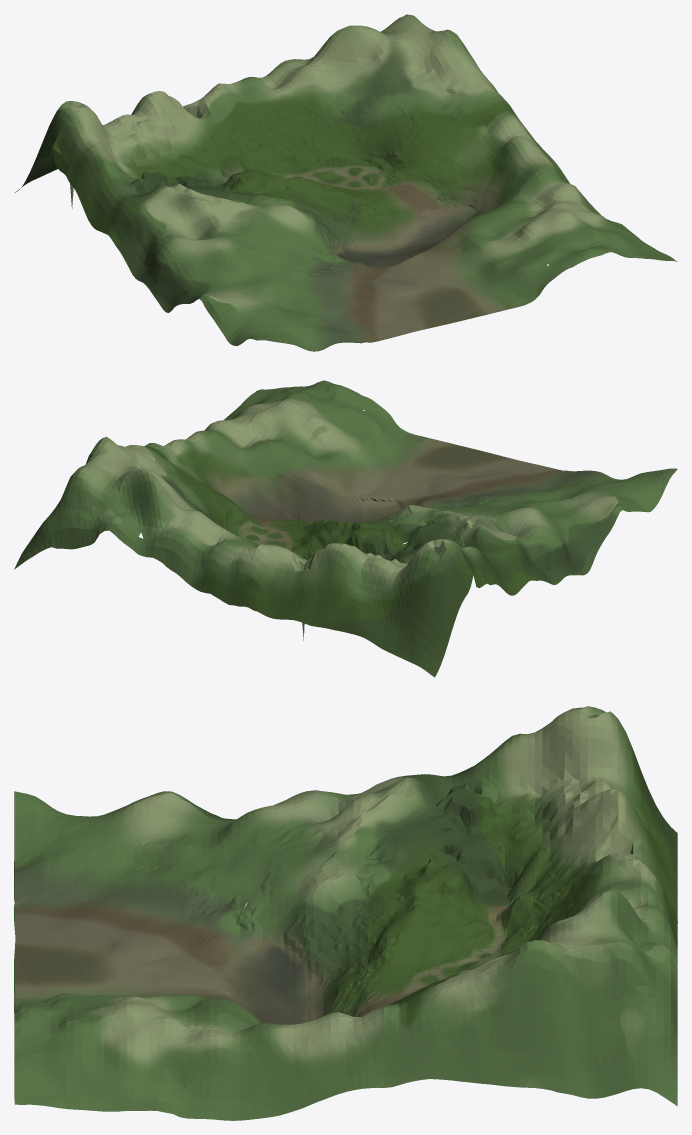
The picture shows the model from 3 angles, top to bottom: view 1: azimuth 30°, elevation 25°; view 2: azimuth 150°, elevation 25°; view 3: azimuth 270°, elevation 25°; orthographic projection. The views are drawn at different scales.
Parts seen in each view (by area): view 1: T01_15, T01_9, T01_8, T01_12, T01_4, T01_5, T01_11, T01_2, T01_3, T01_16, T01_7_1, T01_13 (+4 smaller); view 2: T01_1, T01_15, T01_14, T01_9, T01_12, T01_16, T01_5, T01_3, T01_4, T01_2, T01_10, T01_11 (+3 smaller); view 3: T01_15, T01_9, T01_1, T01_16, T01_3, T01_12, T01_5, T01_14, T01_11, T01_10, T01_7_1, T01_4 (+4 smaller).
Boxes of the visible parts, left/top/right/bottom form: T01_15: left=302, top=216, right=552, bottom=344; T01_9: left=128, top=176, right=332, bottom=312; T01_8: left=270, top=86, right=446, bottom=188; T01_12: left=172, top=252, right=332, bottom=351; T01_4: left=183, top=28, right=376, bottom=147; T01_5: left=340, top=14, right=497, bottom=130; T01_11: left=424, top=82, right=569, bottom=211; T01_2: left=49, top=101, right=170, bottom=280; T01_3: left=74, top=91, right=208, bottom=194; T01_16: left=493, top=184, right=677, bottom=280; T01_7_1: left=230, top=125, right=434, bottom=223; T01_13: left=328, top=198, right=477, bottom=256; T01_1: left=14, top=491, right=470, bottom=677; T01_15: left=294, top=408, right=601, bottom=508; T01_14: left=186, top=420, right=435, bottom=523; T01_9: left=375, top=505, right=592, bottom=582; T01_12: left=439, top=468, right=677, bottom=563; T01_16: left=214, top=380, right=383, bottom=452; T01_5: left=60, top=436, right=193, bottom=528; T01_3: left=295, top=539, right=486, bottom=640; T01_4: left=137, top=477, right=310, bottom=636; T01_2: left=415, top=537, right=558, bottom=609; T01_10: left=301, top=519, right=415, bottom=557; T01_11: left=130, top=439, right=232, bottom=501; T01_15: left=14, top=860, right=247, bottom=1012; T01_9: left=243, top=776, right=470, bottom=944; T01_1: left=452, top=774, right=677, bottom=1106; T01_16: left=14, top=996, right=217, bottom=1119; T01_3: left=444, top=713, right=655, bottom=876; T01_12: left=14, top=791, right=249, bottom=915; T01_5: left=421, top=889, right=653, bottom=1053; T01_14: left=210, top=916, right=308, bottom=1120; T01_11: left=300, top=978, right=452, bottom=1108; T01_10: left=314, top=846, right=478, bottom=967; T01_7_1: left=342, top=891, right=565, bottom=1016; T01_4: left=557, top=852, right=663, bottom=945.
Size of the model in its own units: 39905 by 11517 by 39934.
Materials: 1 (1 with a texture image).
